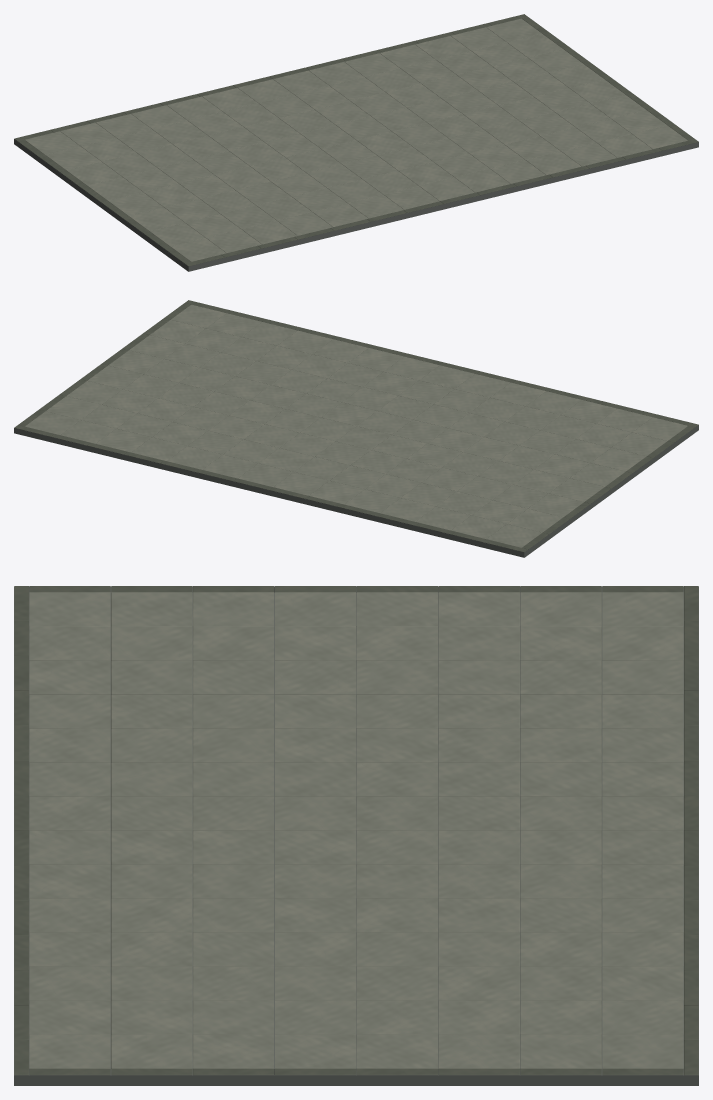
File: sanctuary-floor.glb
The picture shows the model from 3 angles, top to bottom: view 1: azimuth 30°, elevation 25°; view 2: azimuth 150°, elevation 25°; view 3: azimuth 270°, elevation 25°; orthographic projection. The views are drawn at different scales.
Visible parts, largest first — view 1: Sanctuary floor | honed limestone, Sanctuary floor | smoked stone border, Sanctuary floor | recessed lime joint; view 2: Sanctuary floor | honed limestone, Sanctuary floor | smoked stone border, Sanctuary floor | recessed lime joint; view 3: Sanctuary floor | honed limestone, Sanctuary floor | smoked stone border, Sanctuary floor | recessed lime joint.
Boxes of the visible parts, <box> form: Sanctuary floor | honed limestone: <box>25,18,687,261</box>; Sanctuary floor | smoked stone border: <box>14,14,698,266</box>; Sanctuary floor | recessed lime joint: <box>14,139,698,271</box>; Sanctuary floor | honed limestone: <box>25,304,687,547</box>; Sanctuary floor | smoked stone border: <box>14,300,698,552</box>; Sanctuary floor | recessed lime joint: <box>14,425,698,557</box>; Sanctuary floor | honed limestone: <box>29,592,683,1068</box>; Sanctuary floor | smoked stone border: <box>14,586,698,1075</box>; Sanctuary floor | recessed lime joint: <box>14,587,698,1085</box>.
Size of the model in its own units: 12.24 by 0.1302 by 7.25.
Materials: 3 (2 with a texture image).
